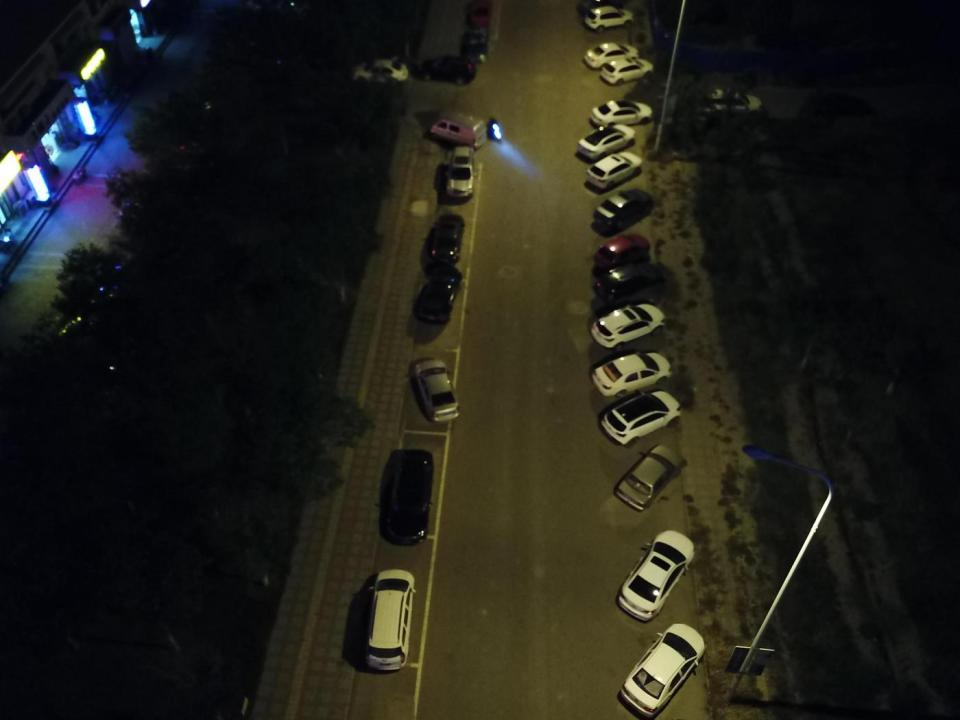car: (613, 621, 707, 717), (616, 527, 696, 621), (356, 568, 419, 675), (384, 445, 433, 545), (613, 446, 688, 510), (601, 389, 685, 446), (589, 350, 676, 400), (588, 302, 667, 348), (592, 261, 669, 306), (414, 261, 464, 323), (412, 360, 461, 422), (591, 188, 657, 231), (690, 84, 766, 121), (582, 151, 643, 190), (576, 123, 639, 160), (592, 234, 653, 269), (425, 213, 467, 263), (418, 53, 478, 88), (589, 98, 654, 130), (583, 38, 642, 70), (446, 146, 478, 200), (349, 58, 410, 86), (599, 57, 656, 84), (584, 6, 636, 34), (464, 24, 491, 64), (470, 1, 494, 27)
van: (422, 110, 487, 148)
